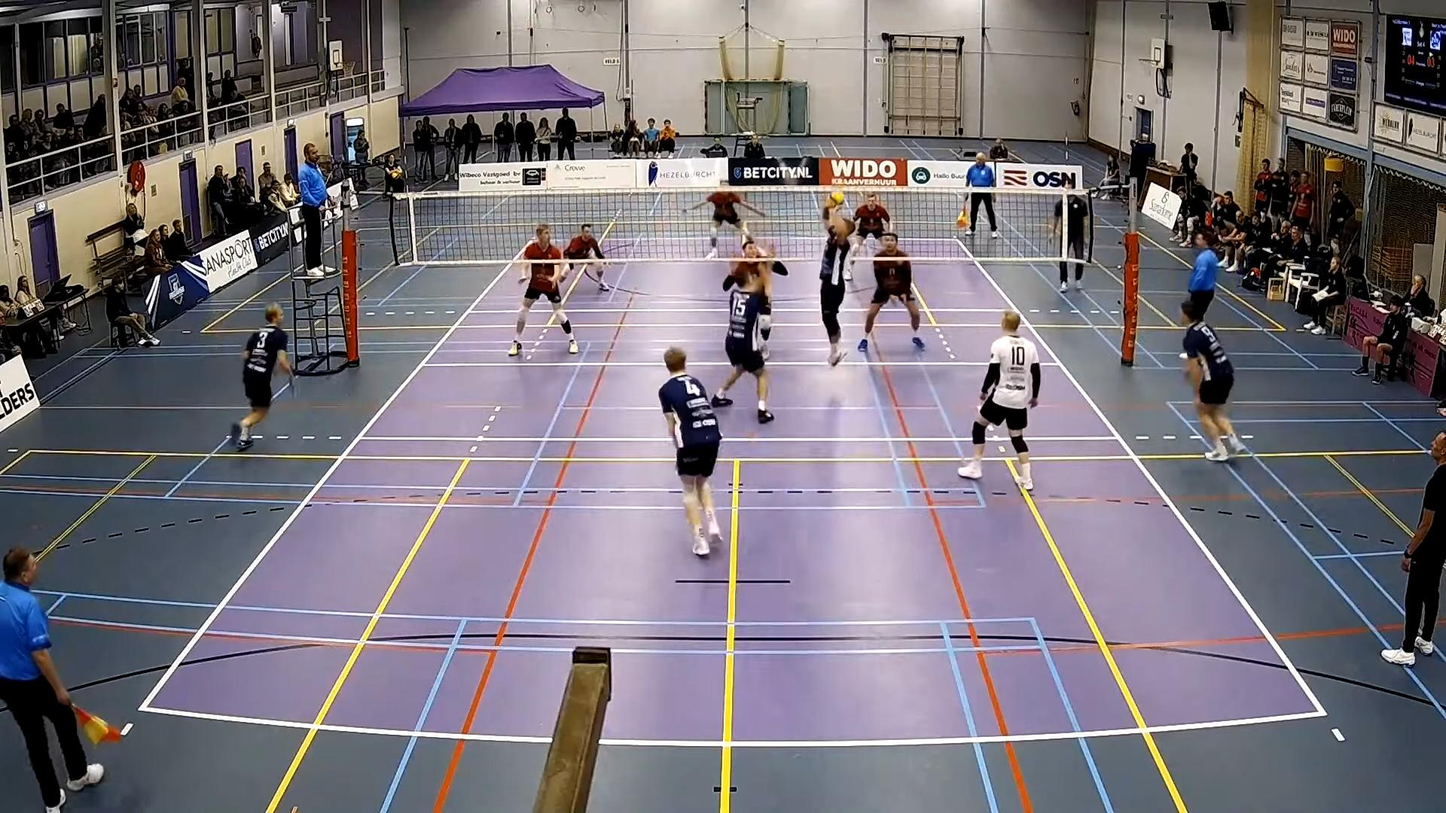Player: (958, 311, 1040, 489), (658, 347, 721, 556), (711, 242, 773, 423), (1181, 300, 1246, 461), (229, 303, 292, 450), (508, 224, 578, 355), (722, 237, 787, 360), (858, 232, 924, 352), (687, 189, 763, 258), (563, 224, 609, 291), (850, 192, 890, 265)
Set: (811, 203, 863, 375)
ball: (824, 192, 845, 205)
